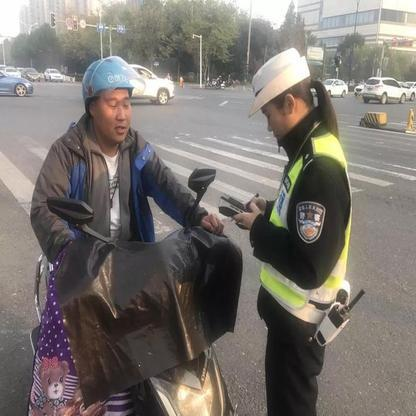target: (23, 55, 242, 410)
